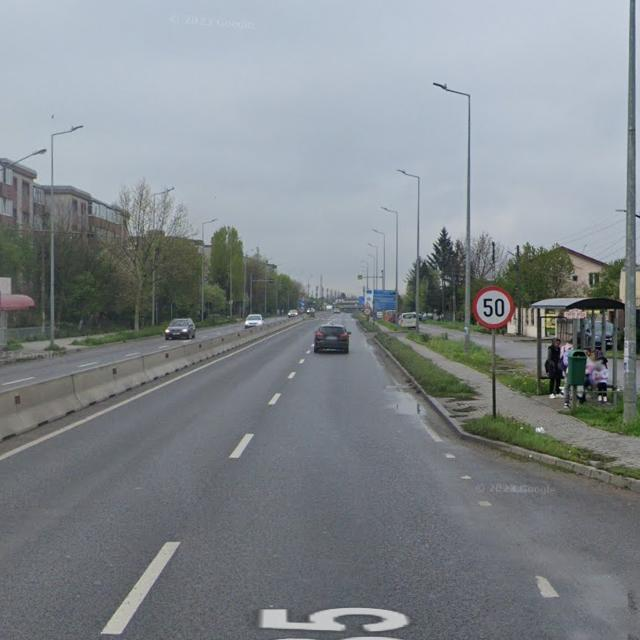forb_speed_over_50: (473, 284, 512, 331)
